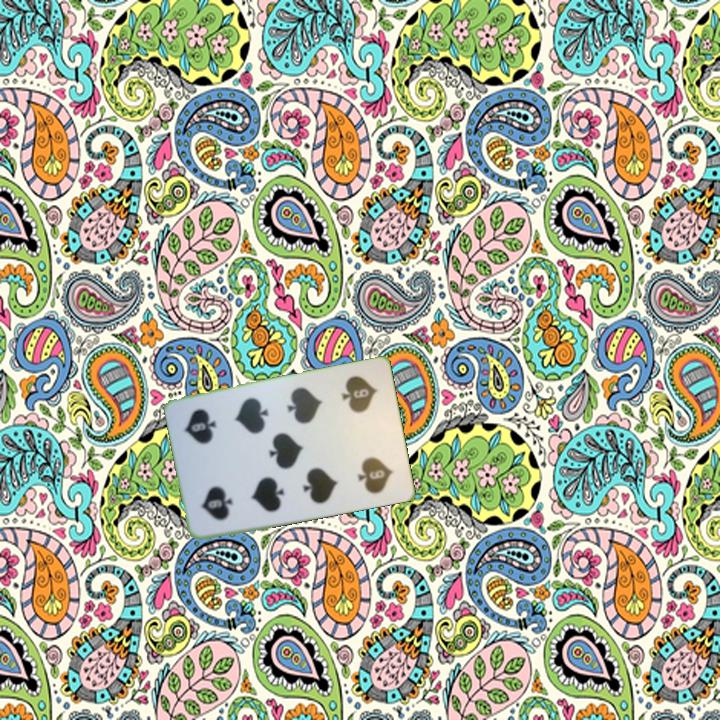s_9.png: (324, 366, 393, 442), (185, 456, 254, 531)
